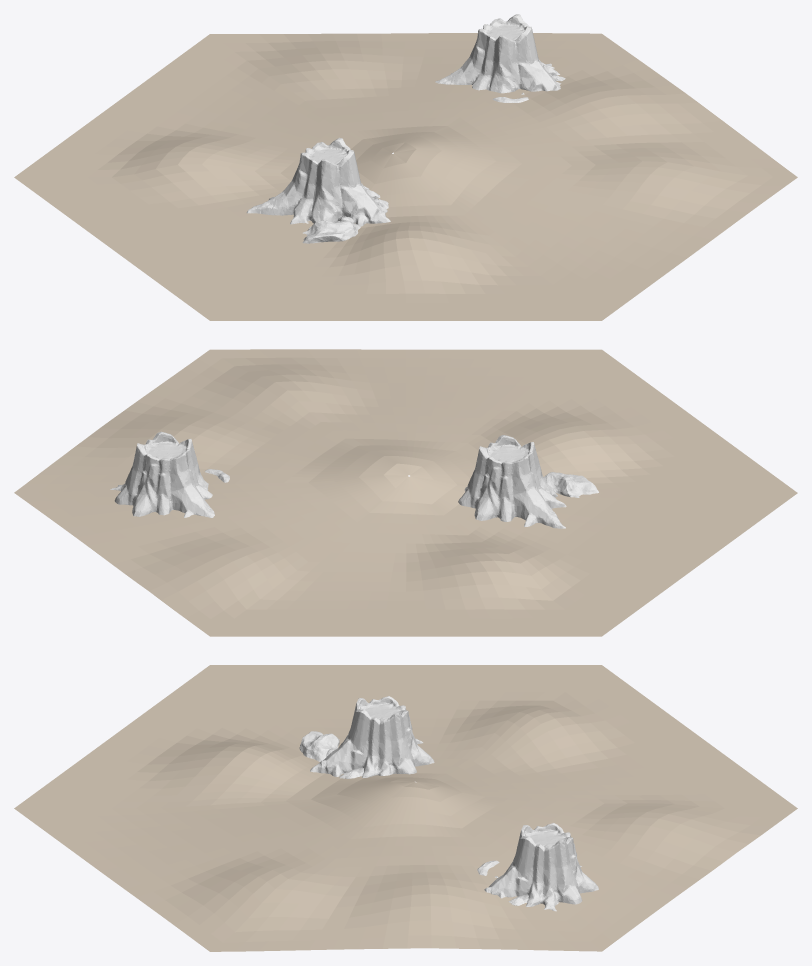
Rendered from tree_hex_1.fbx.
3 renders of one model, top to bottom at view 1: azimuth 30°, elevation 25°; view 2: azimuth 150°, elevation 25°; view 3: azimuth 270°, elevation 25°, orthographic.
Parts seen in each view (by area): view 1: Circle, Stump No Base, Stump No Base.001; view 2: Circle, Stump No Base, Stump No Base.001; view 3: Circle, Stump No Base, Stump No Base.001.
Part boxes in pixels (box(x1,y1,x2,y2)): Circle: box(14, 33, 797, 320); Stump No Base: box(246, 138, 390, 243); Stump No Base.001: box(435, 14, 565, 102); Circle: box(14, 349, 797, 636); Stump No Base: box(458, 435, 598, 528); Stump No Base.001: box(110, 431, 229, 517); Circle: box(14, 665, 797, 951); Stump No Base: box(299, 696, 434, 778); Stump No Base.001: box(477, 823, 598, 911).
Size of the model in its own units: 173 by 17.13 by 200.
